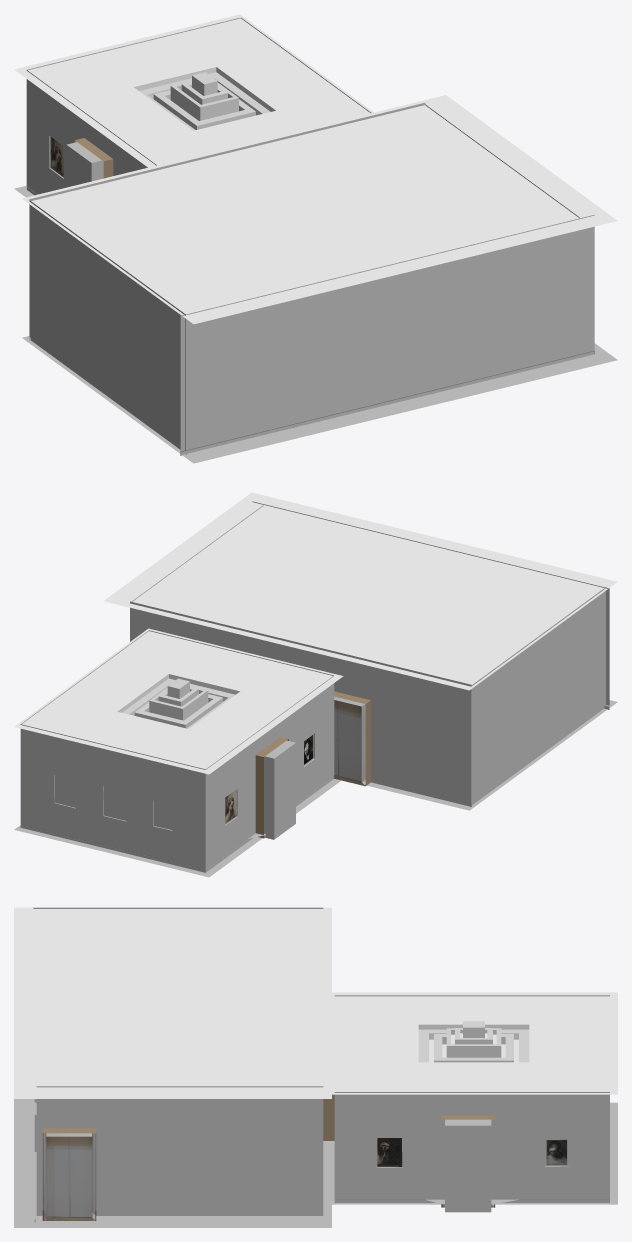
Rendered from libart.fbx.
3 views of the same model, one above another, from view 1: azimuth 30°, elevation 25°; view 2: azimuth 150°, elevation 25°; view 3: azimuth 270°, elevation 25° (orthographic). The views are drawn at different scales.
Visible parts, largest first — view 1: Plane.003, LONGWALLDEF.002, Plane.001, smallside.001, sidewall.001, Plane.002, wall5final; view 2: Plane.003, Plane.001, mainwall, wall5final, smallside.001, sidewall.001, gate1.003, Plane, LONGWALLDEF.002, Plane.002; view 3: Plane.003, gate1.004, gate1.005, Plane.001, Plane.002, Plane, smallside.001, sidewall.001, gate1.002.
Part boxes in pixels (box(x1,y1,x2,y2)): Plane.003: box(22, 95, 617, 324); LONGWALLDEF.002: box(180, 215, 594, 455); Plane.001: box(14, 14, 373, 167); smallside.001: box(29, 200, 187, 455); sidewall.001: box(26, 70, 156, 195); Plane.002: box(22, 336, 617, 463); wall5final: box(29, 103, 425, 340); Plane.003: box(103, 492, 617, 690); Plane.001: box(14, 628, 343, 774); mainwall: box(20, 724, 205, 872); wall5final: box(130, 601, 471, 806); smallside.001: box(470, 587, 606, 806); sidewall.001: box(205, 675, 334, 872); gate1.003: box(334, 691, 370, 786); Plane: box(14, 778, 341, 877); LONGWALLDEF.002: box(252, 501, 609, 709); Plane.002: box(367, 700, 617, 810); Plane.003: box(14, 907, 331, 1098); gate1.004: box(36, 1086, 323, 1220); gate1.005: box(334, 1092, 609, 1212); Plane.001: box(332, 992, 617, 1094); Plane.002: box(14, 1099, 331, 1227); Plane: box(330, 1102, 617, 1204); smallside.001: box(33, 907, 323, 908); sidewall.001: box(334, 995, 609, 996); gate1.002: box(323, 1094, 334, 1140).
Bounding box in the file's own units: 742 × 237 × 986.
